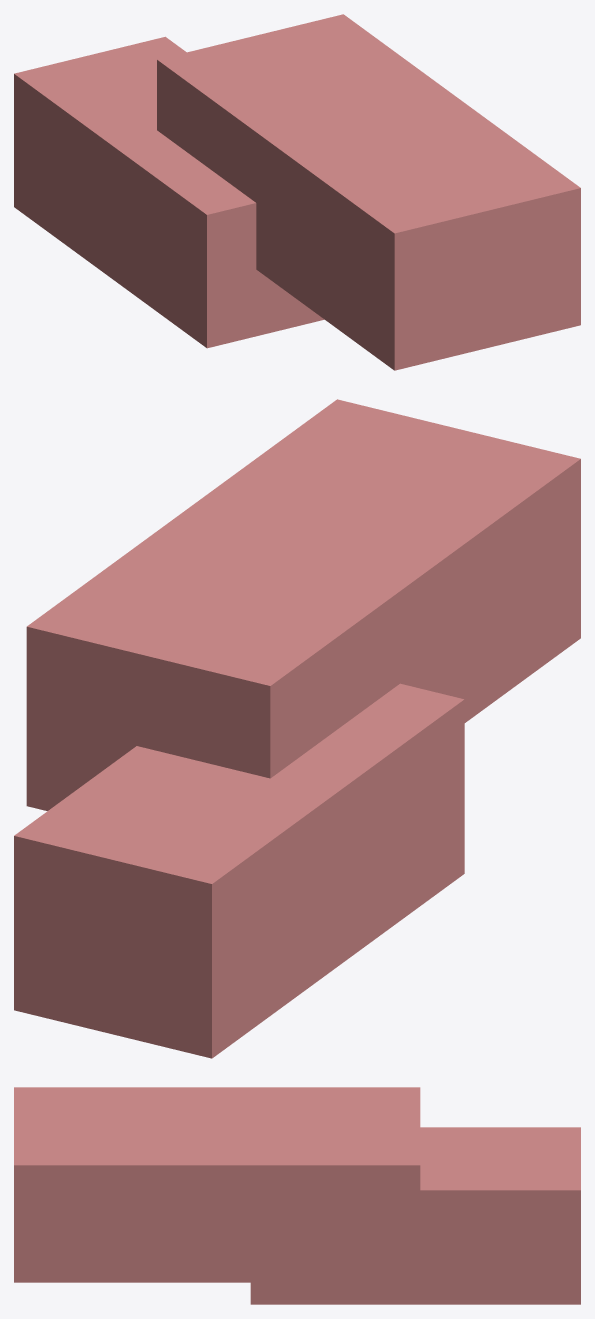
File: 199507_occ.glb
The picture shows the model from 3 angles, top to bottom: view 1: azimuth 30°, elevation 25°; view 2: azimuth 150°, elevation 25°; view 3: azimuth 270°, elevation 25°; orthographic projection. The views are drawn at different scales.
Parts seen in each view (by area): view 1: world; view 2: world; view 3: world.
Part boxes in pixels (x1=…): world: x1=14, y1=14, x2=580, y2=370; world: x1=14, y1=399, x2=580, y2=1058; world: x1=14, y1=1087, x2=580, y2=1304.
Size of the model in its own units: 4.28 by 3.54 by 10.42.
